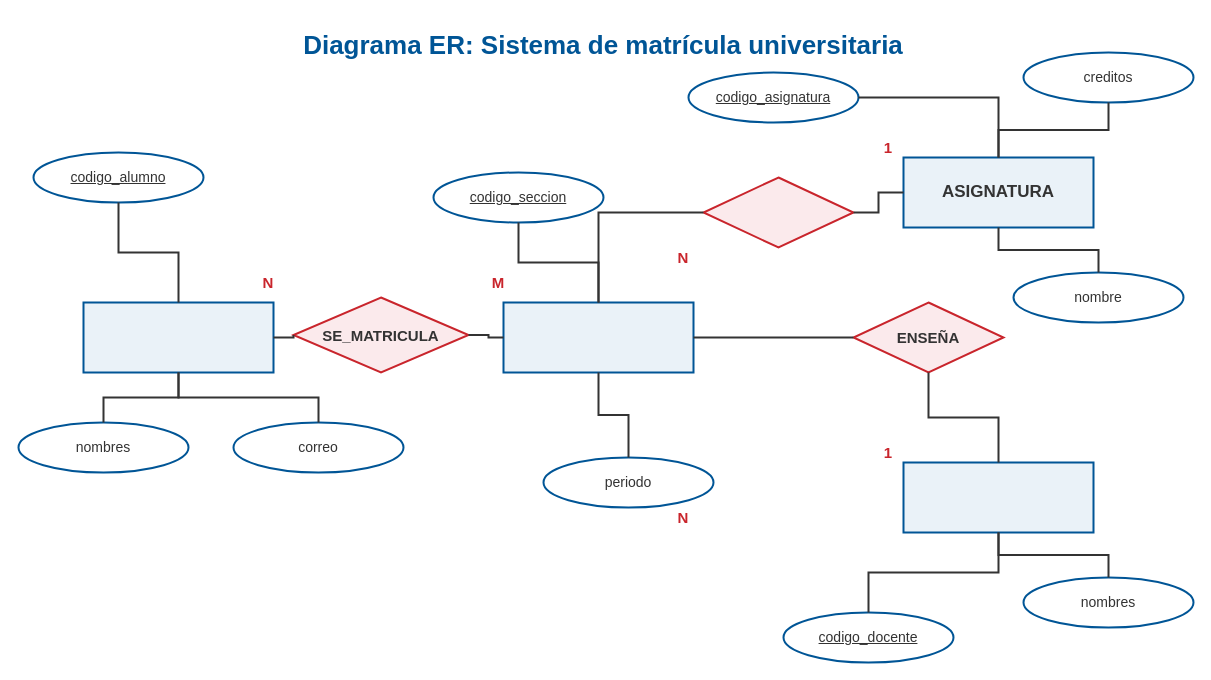
Image size: 1211x680. Some labels were removed from this diagram. The shapes that lost their labels are listed below. From the top down, each one's box as (x1, y1, x2, y2) in pixels, then its label:
(702, 176, 854, 248): TIENE
(82, 301, 274, 373): ALUMNO
(502, 301, 694, 373): SECCIÓN
(902, 461, 1094, 533): DOCENTE
